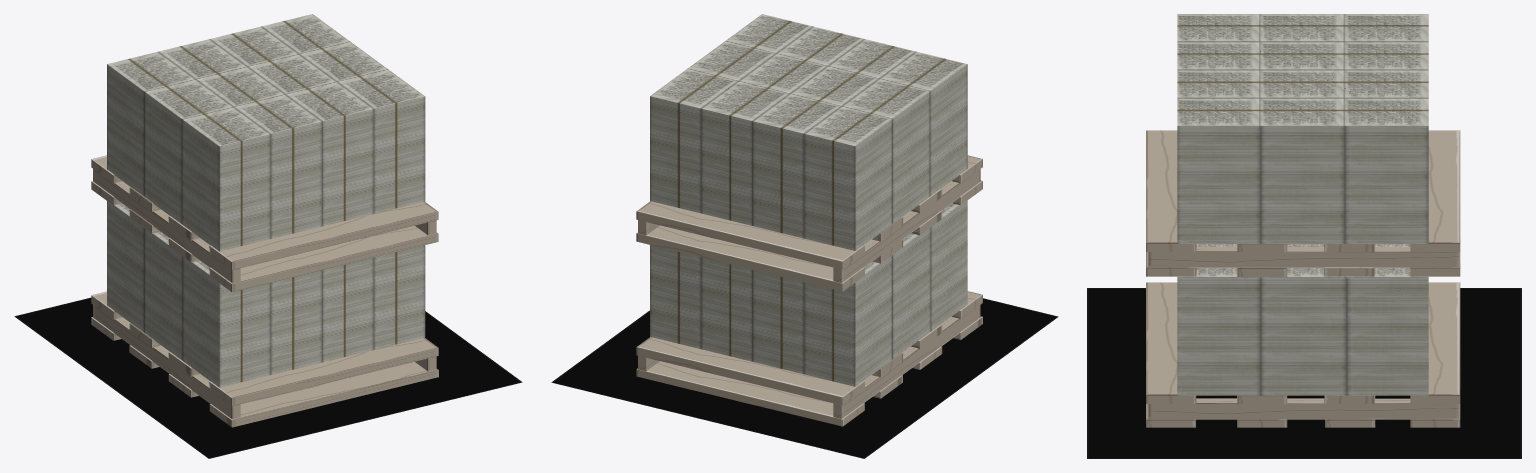
The model's file is paper_stacks.fbx.
3 renders of one model, left to right at view 1: azimuth 30°, elevation 25°; view 2: azimuth 150°, elevation 25°; view 3: azimuth 270°, elevation 25°, orthographic. The views are drawn at different scales.
Parts seen in each view (by area): view 1: MoneyStack2, MoneyStack1, MoneyStacksPallet2Shadow, Plank20 (×2), Plank4, Beam5 (×2), Plank13; view 2: MoneyStack2, MoneyStack1, MoneyStacksPallet2Shadow, Plank17 (×2), Plank1, Beam5 (×2), Plank16; view 3: MoneyStack2, MoneyStacksPallet2Shadow, MoneyStack1, Beam3 (×2), Plank17 (×2), Plank20 (×2), Plank1, Plank4, Plank19 (×2), Plank18, Plank3, Plank13 (+4 smaller).
Part boxes in pixels (box(x1,y1,x2,y2)): MoneyStack2: box(107, 14, 425, 251); MoneyStack1: box(107, 201, 425, 387); MoneyStacksPallet2Shadow: box(14, 297, 522, 458); Plank20 (×2): box(209, 201, 438, 292); Plank4: box(209, 337, 438, 406); Beam5 (×2): box(93, 169, 240, 419); Plank13: box(209, 362, 438, 427); MoneyStack2: box(650, 14, 967, 250); MoneyStack1: box(650, 200, 967, 386); MoneyStacksPallet2Shadow: box(551, 298, 1058, 458); Plank17 (×2): box(636, 201, 864, 291); Plank1: box(636, 337, 864, 405); Beam5 (×2): box(833, 169, 980, 418); Plank16: box(636, 361, 864, 426); MoneyStack2: box(1177, 14, 1428, 243); MoneyStacksPallet2Shadow: box(1087, 288, 1521, 458); MoneyStack1: box(1177, 244, 1428, 395); Beam3 (×2): box(1148, 246, 1459, 419); Plank17 (×2): box(1410, 130, 1460, 276); Plank20 (×2): box(1146, 130, 1196, 276); Plank1: box(1410, 282, 1460, 403); Plank4: box(1146, 282, 1196, 403); Plank19 (×2): box(1237, 244, 1287, 276); Plank18: box(1324, 267, 1374, 276); Plank3: box(1237, 395, 1287, 404); Plank13: box(1146, 404, 1195, 427).
Size of what is drawn, in the model's own units: 17.65 by 14.58 by 18.97.
Materials: 5 (5 with a texture image).
